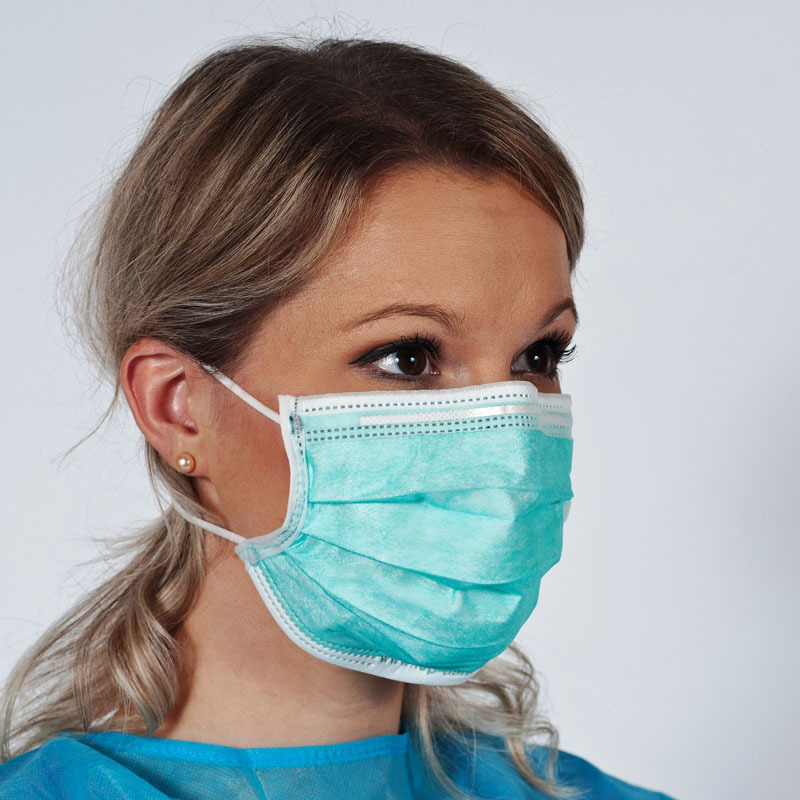mask: (270, 414, 592, 682)
